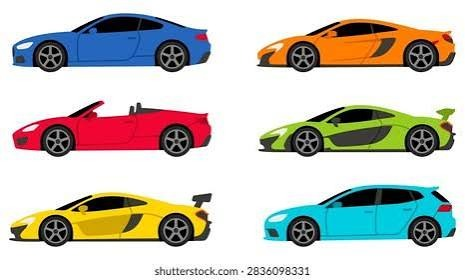car: (258, 184, 455, 246), (10, 12, 210, 71), (6, 189, 214, 244), (255, 16, 462, 71), (11, 102, 213, 156), (259, 103, 457, 155)
